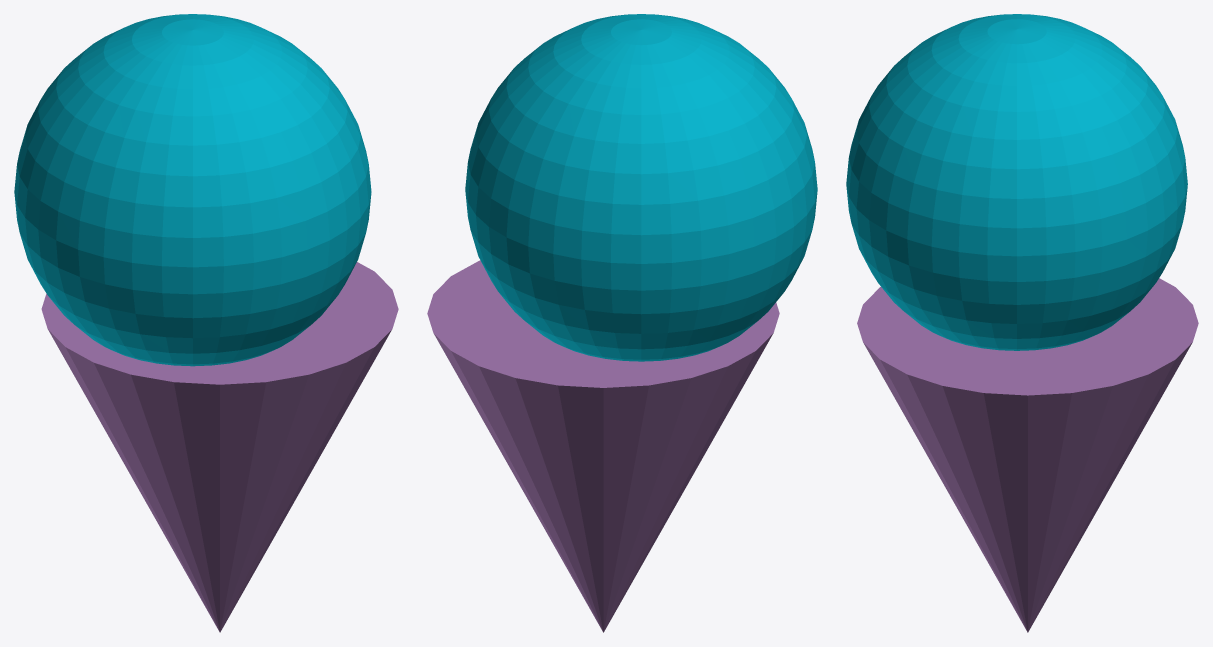
File: icecream.glb
The picture shows the model from 3 angles, left to right: view 1: azimuth 30°, elevation 25°; view 2: azimuth 150°, elevation 25°; view 3: azimuth 270°, elevation 25°; orthographic projection. The views are drawn at different scales.
Visible parts, largest first — view 1: Mesh_Mesh_head_geo.001_lambert2SG.001; view 2: Mesh_Mesh_head_geo.001_lambert2SG.001; view 3: Mesh_Mesh_head_geo.001_lambert2SG.001.
Part boxes in pixels (<box>): Mesh_Mesh_head_geo.001_lambert2SG.001: <box>14,14,398,632</box>; Mesh_Mesh_head_geo.001_lambert2SG.001: <box>427,14,817,632</box>; Mesh_Mesh_head_geo.001_lambert2SG.001: <box>846,14,1198,632</box>.
Size of the model in its own units: 22.12 by 38 by 20.63.
